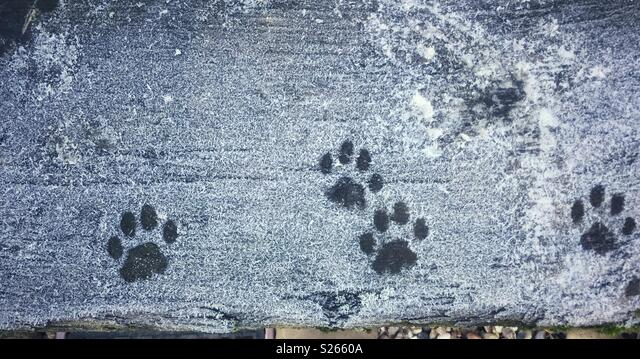cat: (95, 204, 181, 293), (562, 179, 640, 266), (305, 135, 386, 216), (357, 198, 429, 278)
